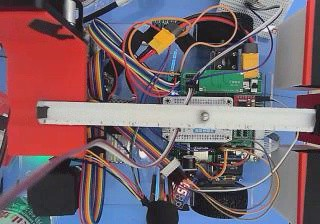ironball: (198, 111, 208, 121)
